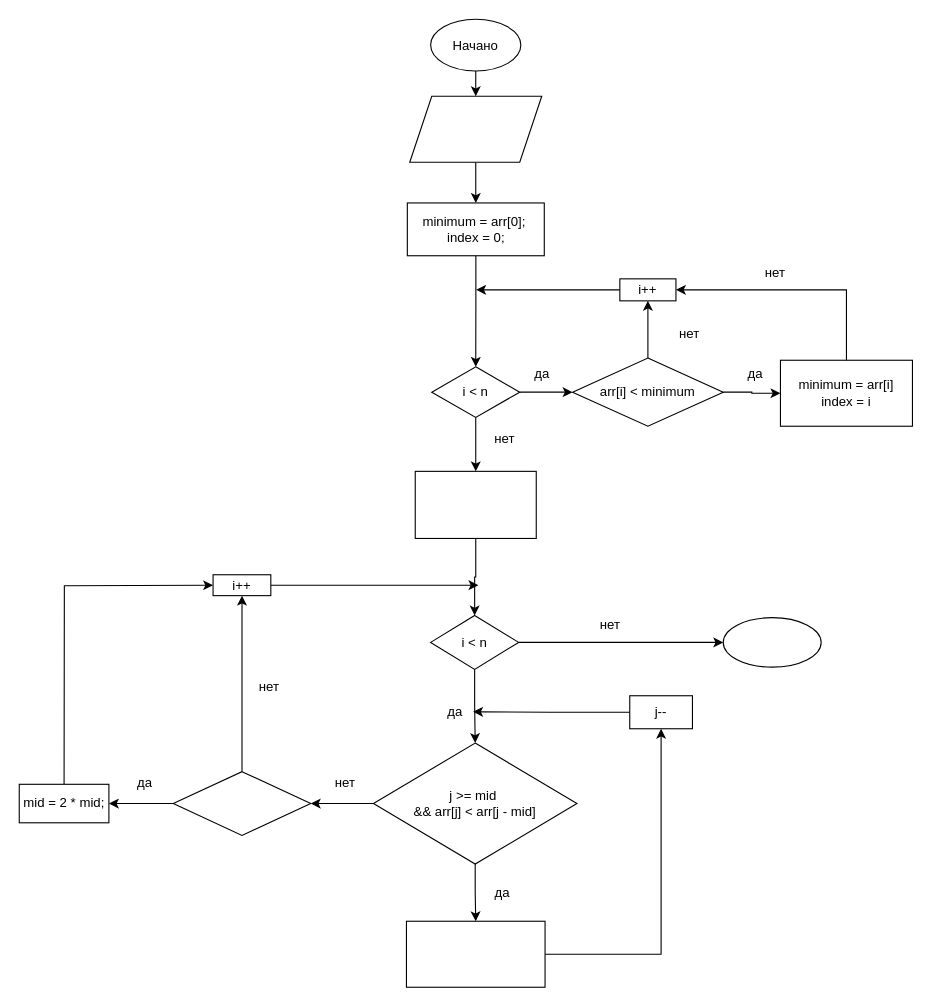
This 932x1007 diagram has some shape labels left out. The shapes that lost their labels are listed below. From the top down, each one's centre as x and y in pixels, then its label:
(475,128): Ввод аргумент: arr
(475,504): arr[index] = arr[0] arr[0] = minimum mid = 1
(771,642): Конец
(241,803): i == 2*mid-1
(475,953): temp = arr[j]; arr[j] = arr[j - mid]; arr[j - mid] = temp;
